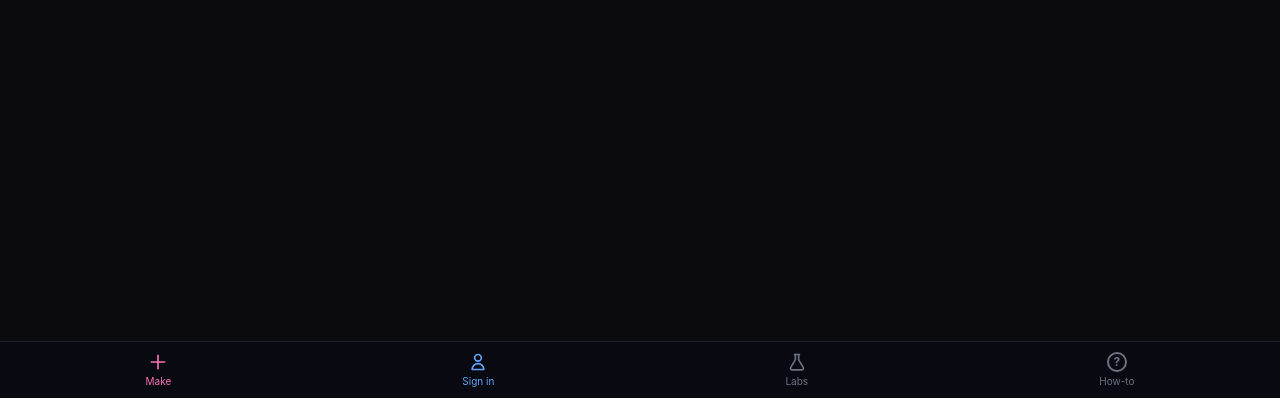
Test: MobileTabBar — signed-out sign-in affordance › relabels the Labs popover row for a signed-out user
The image size is (1280, 398).
Click the button with test id "tabbar-labs". click: (797, 370)
box: [774,346,820,394]
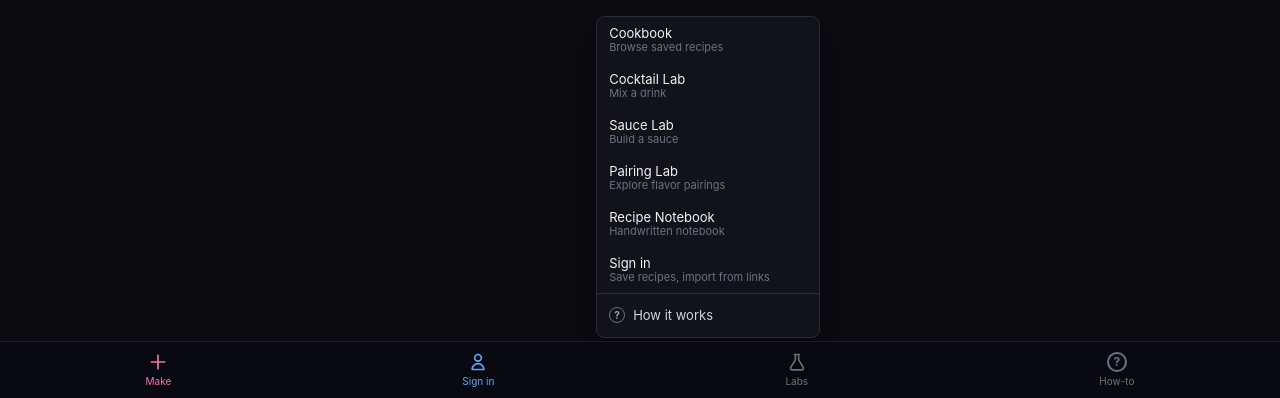
Result: the button with test id "tabbar-labs-item-profile" shows "Sign in" at [597,246,819,292]
Result: the button with test id "tabbar-labs-item-profile" shows "import from links" at [597,246,819,292]
